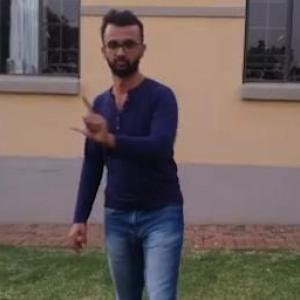land_hand: (62, 87, 118, 145)
